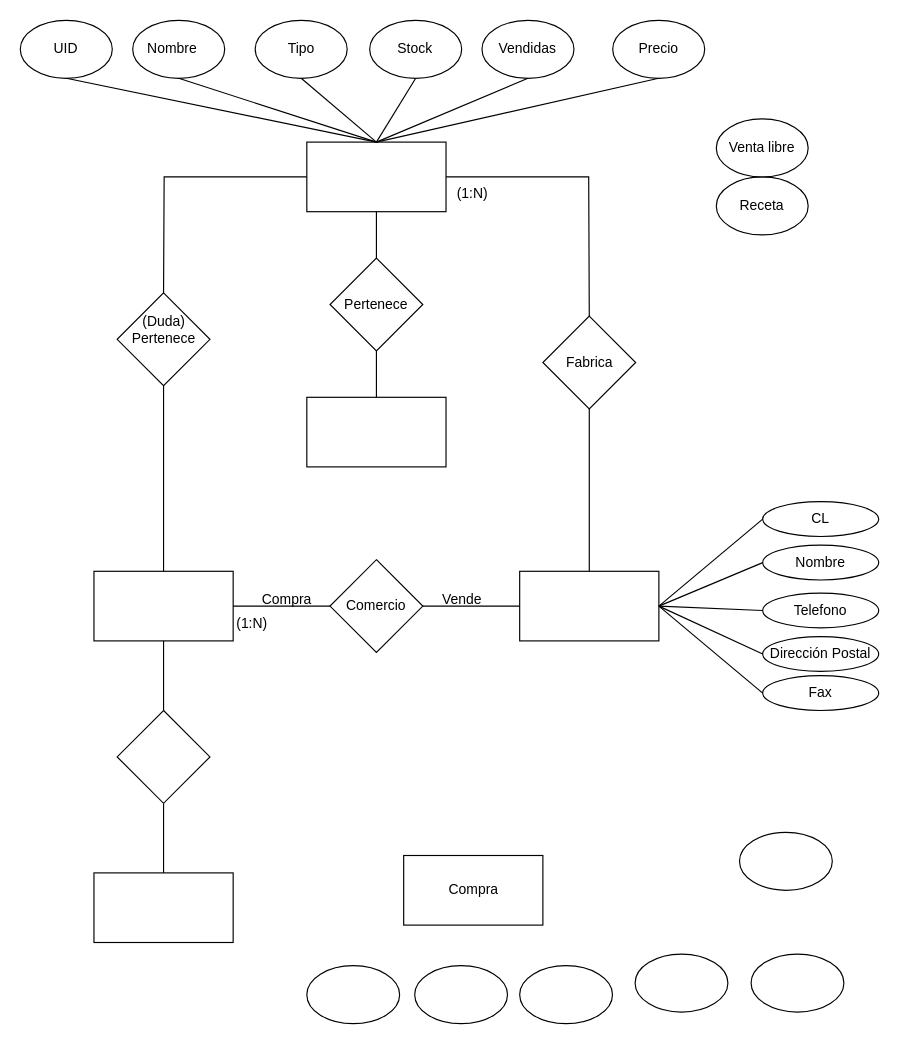
Some shapes in this 899 by 1044 pixel diagram are drawn without their labels. Here are the shapes that lost their labels. From the top down, the centre of each, then its label:
At point (376, 176): "Medicamentos".
At point (376, 431): "Familia de Medicamentos".
At point (163, 605): "Farmacia".
At point (589, 605): "Laboratorio".
At point (163, 907): "Clientes".
